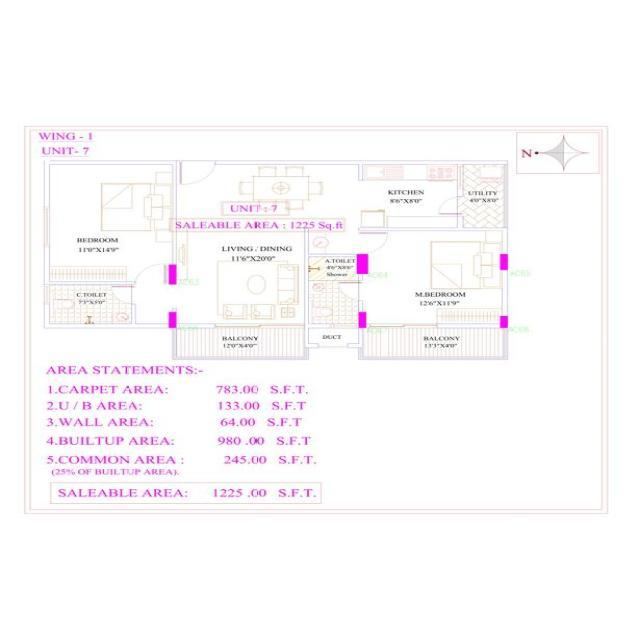Balcony-Sitout: (364, 328, 503, 356), (175, 328, 305, 357)
Bedroom: (47, 163, 170, 283)
Bedroom with Toilet: (306, 229, 504, 325)
Dining: (234, 163, 329, 212)
Enterance-Foyer: (176, 160, 219, 190)
Kitchen: (360, 164, 459, 228)
Living: (174, 164, 306, 326)
Toilet: (308, 257, 358, 324), (49, 284, 132, 323)
Utility: (462, 163, 505, 228)
